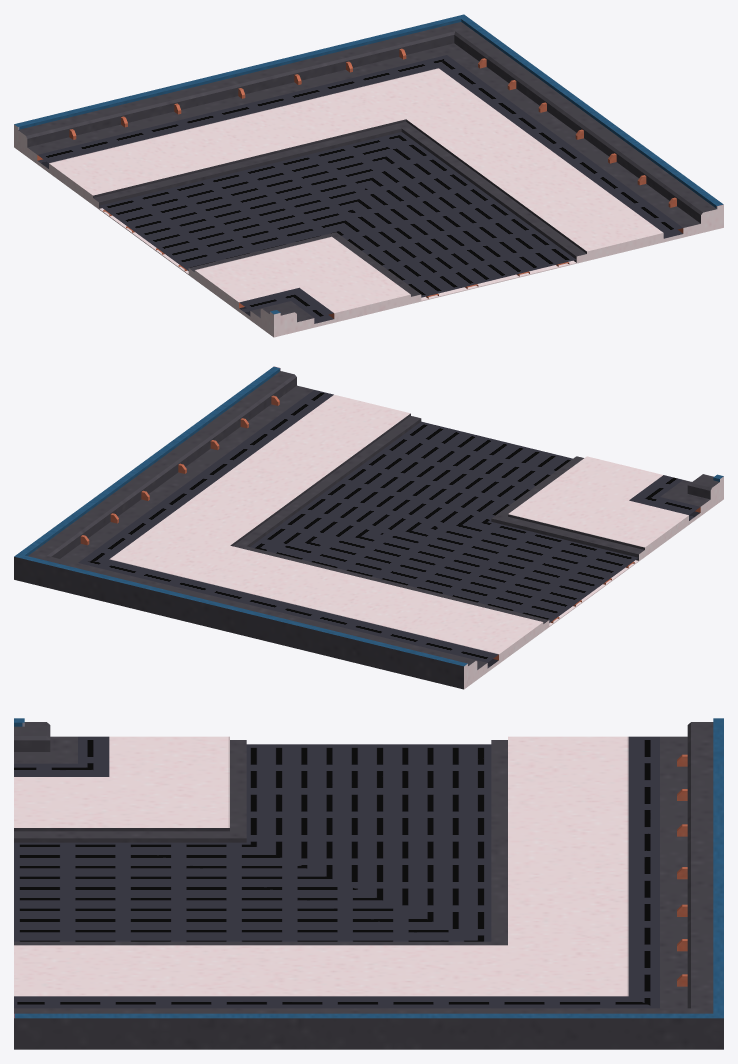
The model's file is Path_Corner_Lattice.glb.
The picture shows the model from 3 angles, top to bottom: view 1: azimuth 30°, elevation 25°; view 2: azimuth 150°, elevation 25°; view 3: azimuth 270°, elevation 25°; orthographic projection. The views are drawn at different scales.
Parts seen in each view (by area): view 1: Floor_Corner_Lattice; view 2: Floor_Corner_Lattice; view 3: Floor_Corner_Lattice.
Boxes of the visible parts, x1,y1,x2,y2 form: Floor_Corner_Lattice: (14,14,723,337); Floor_Corner_Lattice: (14,366,723,689); Floor_Corner_Lattice: (14,718,723,1049).
Size of the model in its own units: 4 by 0.1961 by 4.
2 materials, 2 textured.
